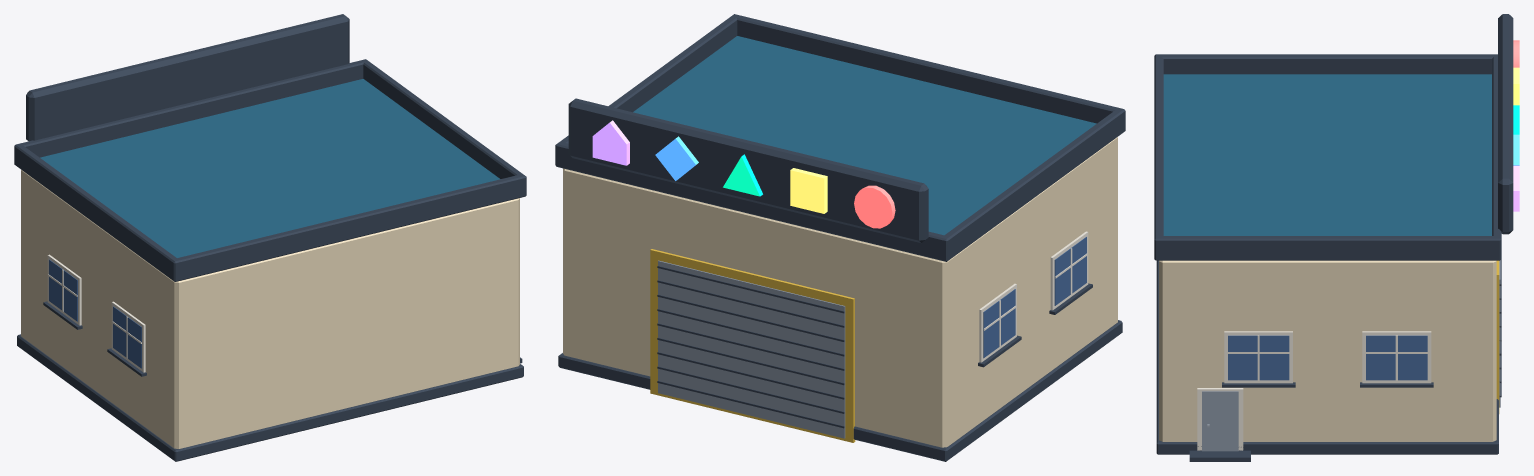
The model's file is bld_garage_lesson06.glb.
3 views of the same model, side by side, from view 1: azimuth 30°, elevation 25°; view 2: azimuth 150°, elevation 25°; view 3: azimuth 270°, elevation 25° (orthographic). The views are drawn at different scales.
Parts seen in each view (by area): view 1: bld_garage_lesson06; view 2: bld_garage_lesson06; view 3: bld_garage_lesson06.
Part boxes in pixels (box(x1,y1,x2,y2)): bld_garage_lesson06: box(14, 14, 526, 461); bld_garage_lesson06: box(555, 14, 1125, 461); bld_garage_lesson06: box(1154, 14, 1519, 461).
Size of the model in its own units: 14.81 by 9.7 by 11.9.
